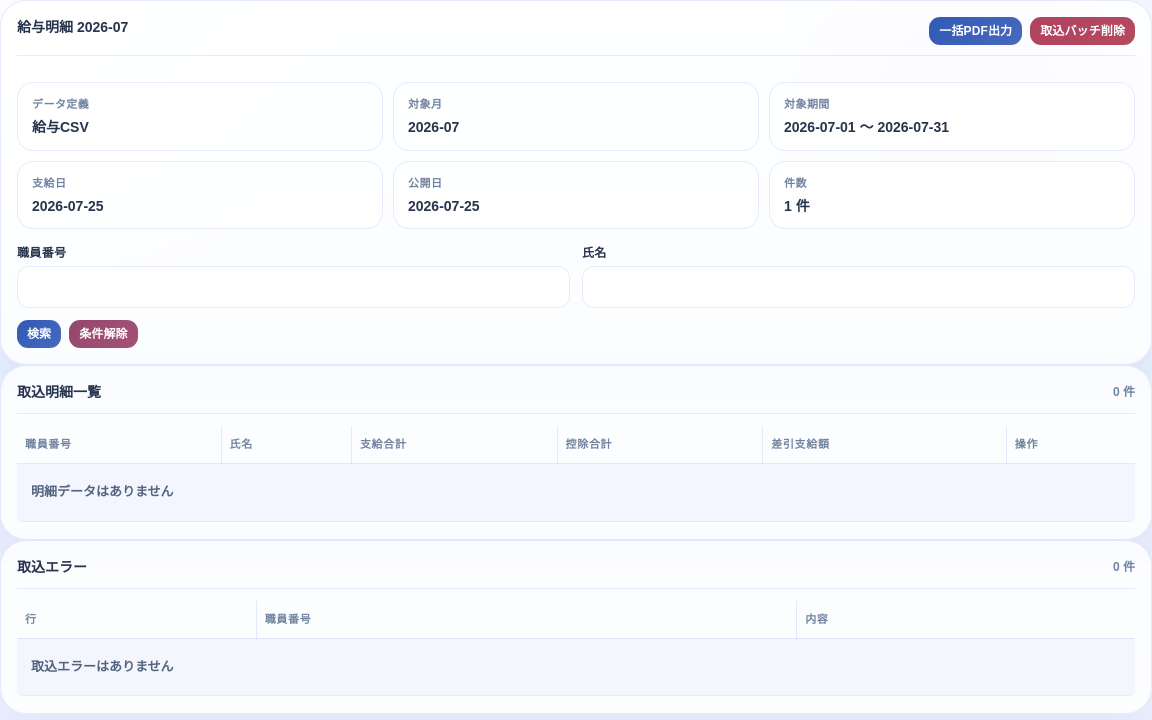
PayrollBatchDetailPanel › 取込バッチ削除は確認後にだけ実行される
This screenshot has width=1152, height=720.
Later steps or results of the test are not shown.
Click the button "取込バッチ削除" at [1083, 31], box x1=1030 y1=17 x2=1135 y2=45
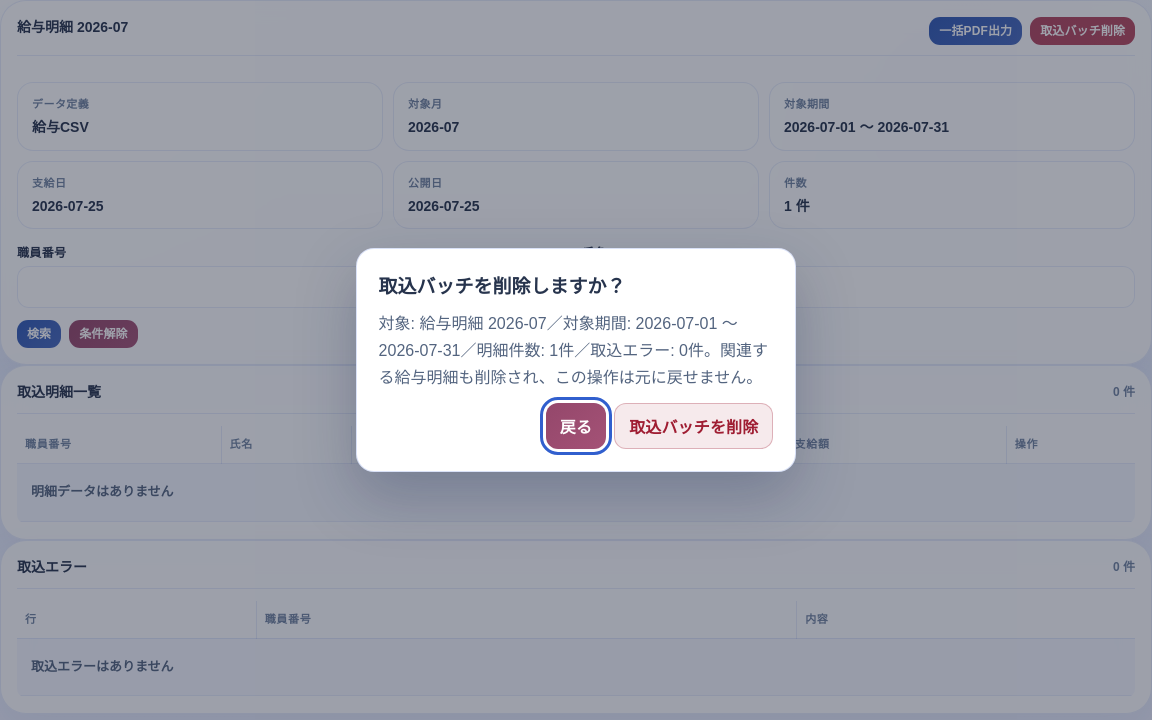
Expected: the dialog "取込バッチを削除しますか？" shows "関連する給与明細も削除され", x1=379 y1=315 x2=768 y2=386
